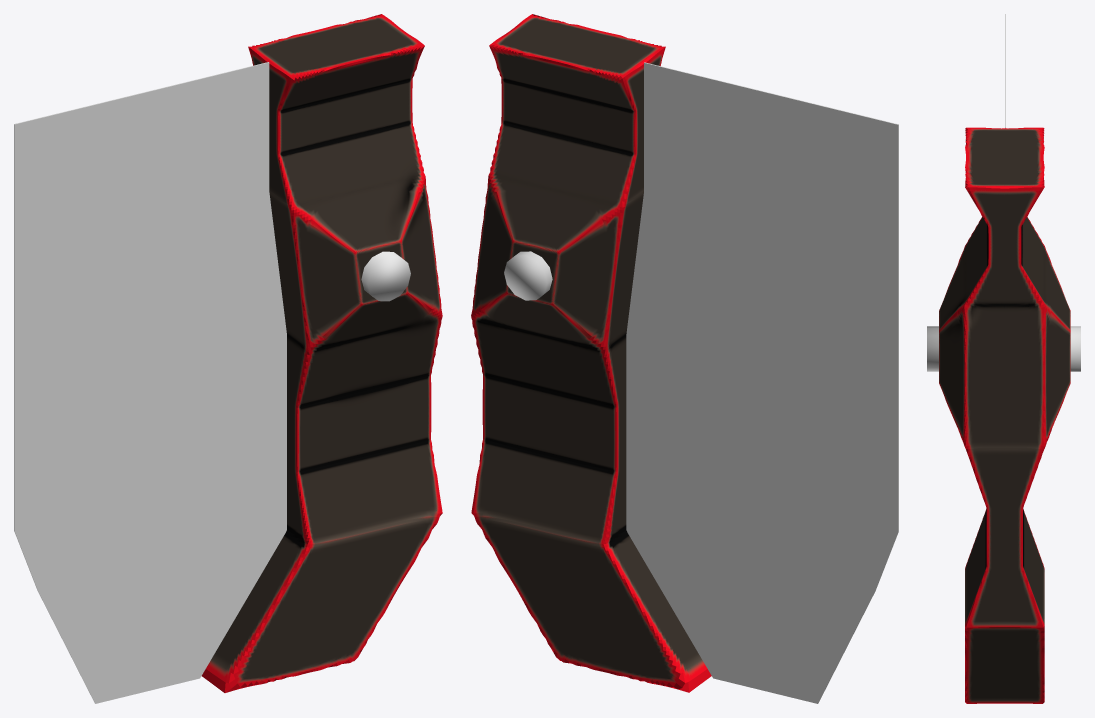
Rendered from Shield.fbx.
The picture shows the model from 3 angles, left to right: view 1: azimuth 30°, elevation 25°; view 2: azimuth 150°, elevation 25°; view 3: azimuth 270°, elevation 25°; orthographic projection. The views are drawn at different scales.
Parts seen in each view (by area): view 1: Plane.001, Plane, Cylinder; view 2: Plane.001, Plane, Cylinder; view 3: Plane, Cylinder.
Part boxes in pixels (x1=…): Plane.001: x1=14, y1=62, x2=286, y2=703; Plane: x1=202, y1=14, x2=442, y2=692; Cylinder: x1=361, y1=251, x2=410, y2=301; Plane.001: x1=626, y1=62, x2=898, y2=703; Plane: x1=471, y1=14, x2=711, y2=692; Cylinder: x1=504, y1=251, x2=552, y2=300; Plane: x1=939, y1=127, x2=1070, y2=703; Cylinder: x1=927, y1=326, x2=1080, y2=371.
Bounding box in the file's own units: 386 × 544 × 138.
